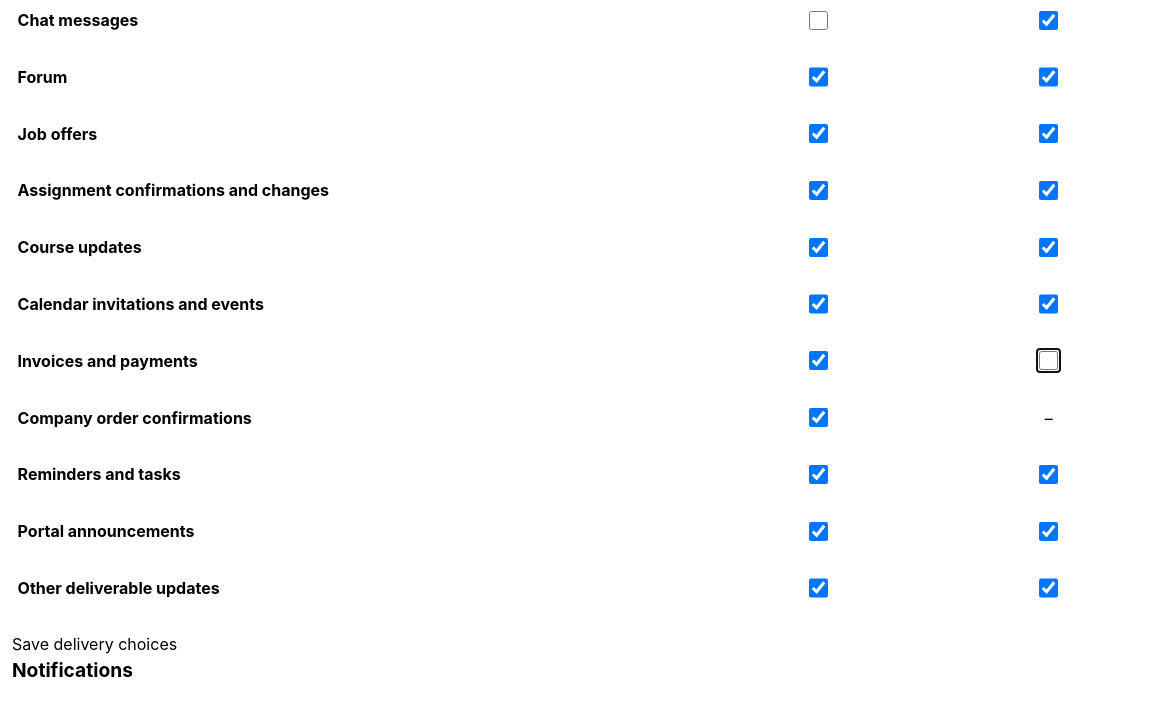
Test: notification delivery by category › saves email and push changes independently and retains them across language changes
Earlier steps of the test are not shown.
(page scrolled)
Expected: the checkbox named "Email for Chat messages" is not checked, [809, 10, 828, 30]
Step 1. Click the button "Save delivery choices" → [95, 644], box [12, 632, 177, 656]
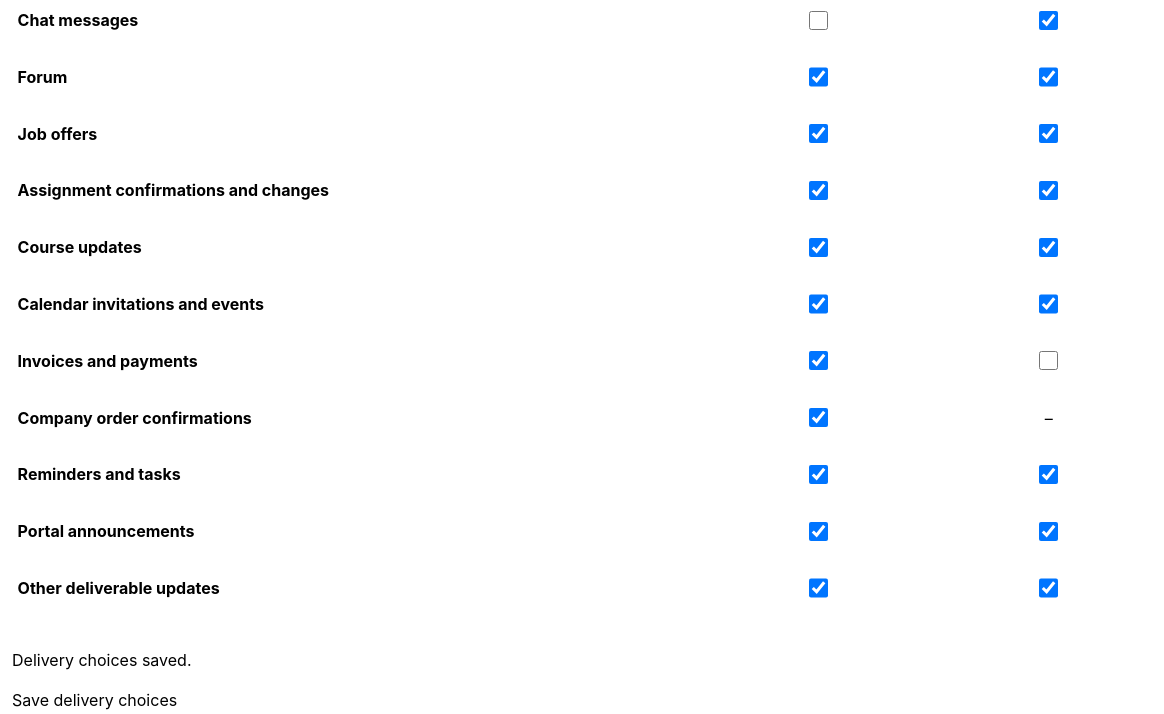
Now the text "Delivery choices saved." is shown, box [12, 650, 192, 670]
